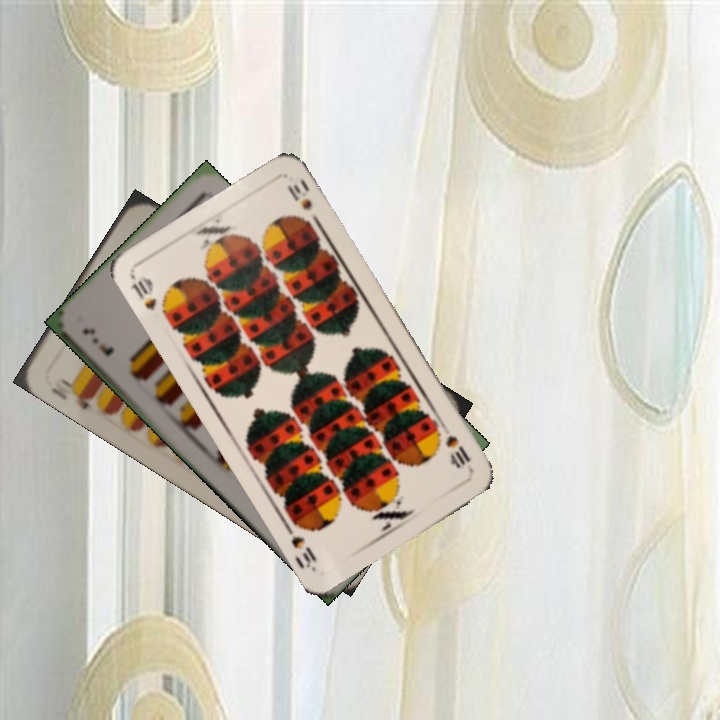E10: (56, 374, 97, 412)
E7: (78, 324, 117, 359)
S10: (431, 425, 473, 471), (126, 273, 160, 313)
